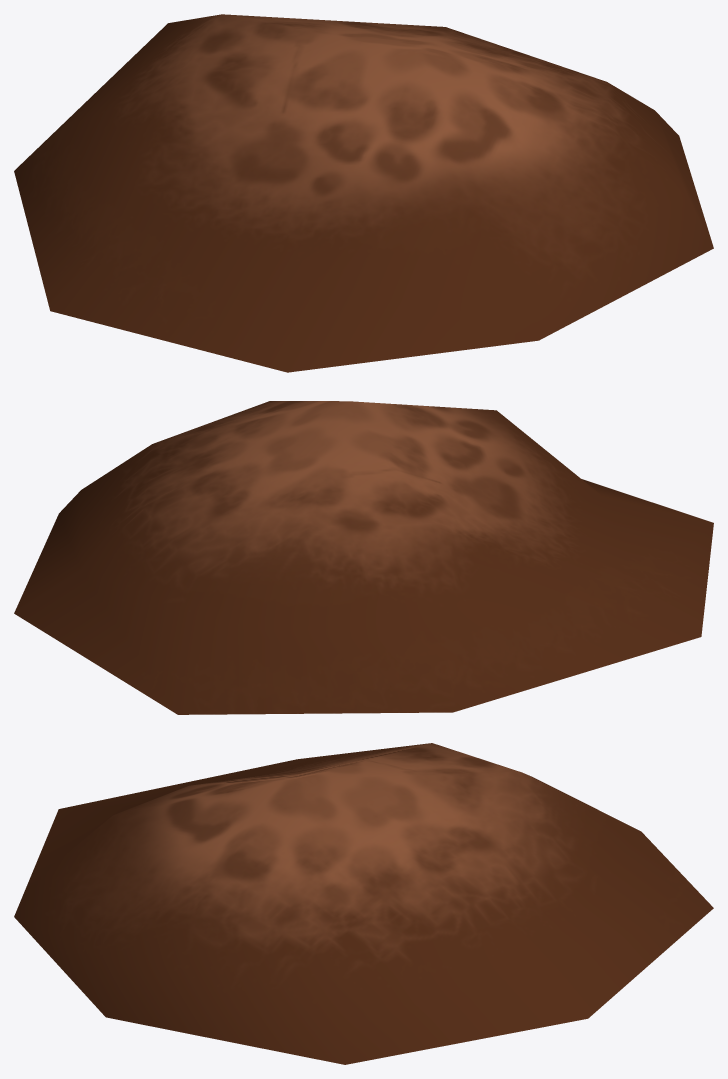
The model's file is M_Soil big.fbx.
3 views of the same model, one above another, from view 1: azimuth 30°, elevation 25°; view 2: azimuth 150°, elevation 25°; view 3: azimuth 270°, elevation 25° (orthographic). The views are drawn at different scales.
Parts seen in each view (by area): view 1: M_Soil big; view 2: M_Soil big; view 3: M_Soil big.
Part boxes in pixels (x1,y1,x2,y2): M_Soil big: (14,14,713,372); M_Soil big: (14,401,713,714); M_Soil big: (14,743,713,1064).
Size of the model in its own units: 0.9036 by 0.9078 by 0.2241.
1 material, 1 textured.
